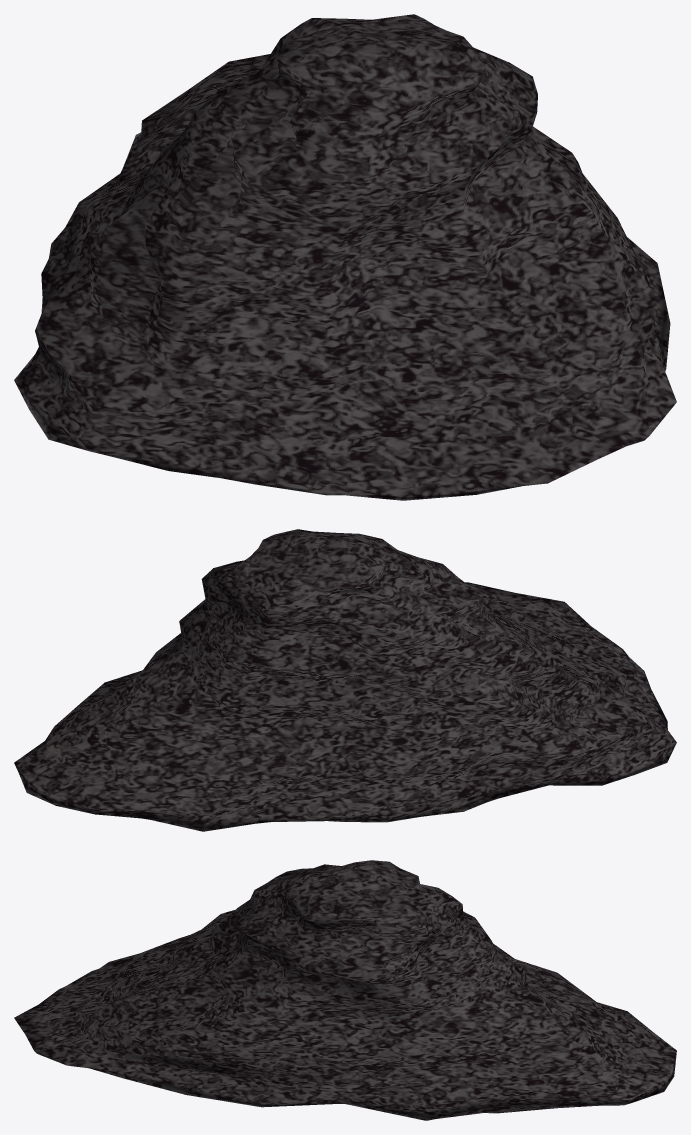
Rendered from desert stone pillar 1.fbx.
3 renders of one model, top to bottom at view 1: azimuth 30°, elevation 25°; view 2: azimuth 150°, elevation 25°; view 3: azimuth 270°, elevation 25°, orthographic. The views are drawn at different scales.
Visible parts, largest first — view 1: cube 8.004; view 2: cube 8.004; view 3: cube 8.004.
Part boxes in pixels (x1,y1,x2,y2): cube 8.004: [14, 14, 676, 500]; cube 8.004: [14, 529, 676, 831]; cube 8.004: [14, 860, 676, 1120].
Bounding box in the file's own units: 1165 × 446 × 1487.
